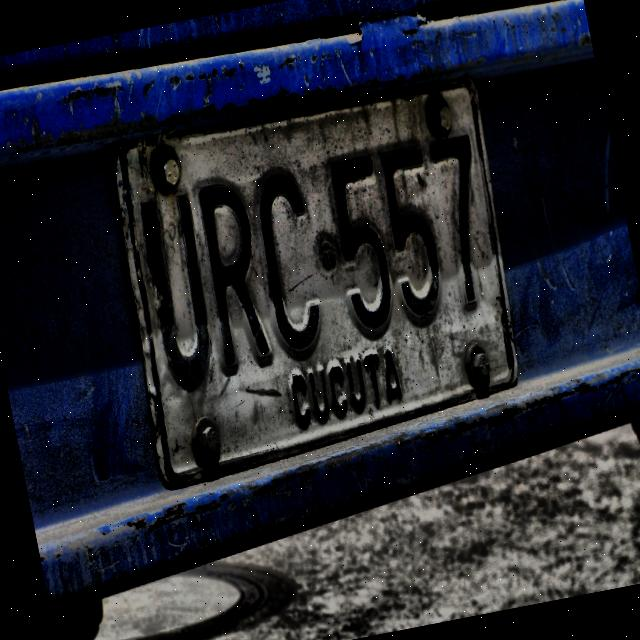5: (377, 133, 458, 335), (322, 146, 403, 346)
7: (424, 129, 497, 320)
C: (249, 165, 331, 360)
R: (195, 171, 279, 382)
U: (136, 188, 221, 408)
